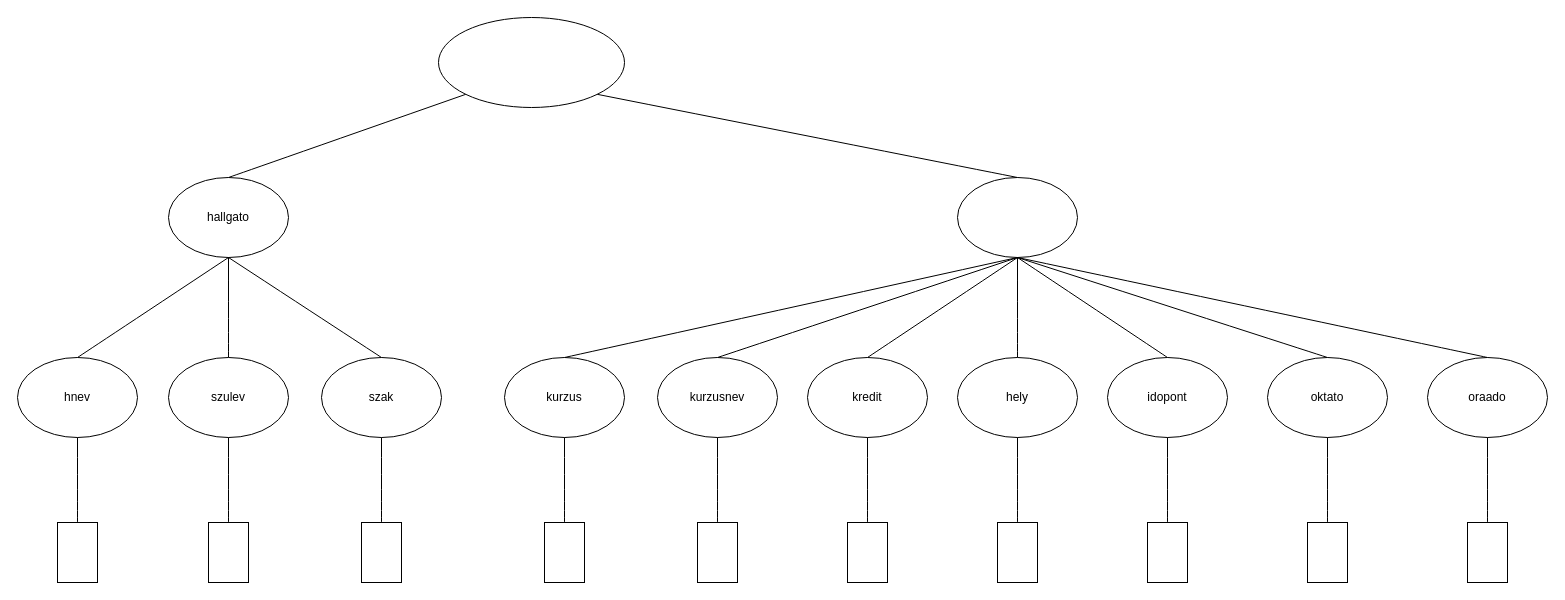
Some shapes in this 1565 by 600 pixel diagram are drawn without their labels. Here are the shapes that lost their labels. From the top down, the centre of each, then its label:
pixel 531 62: A86ANU_kurzusfelvetel
pixel 1017 217: kurzusok
